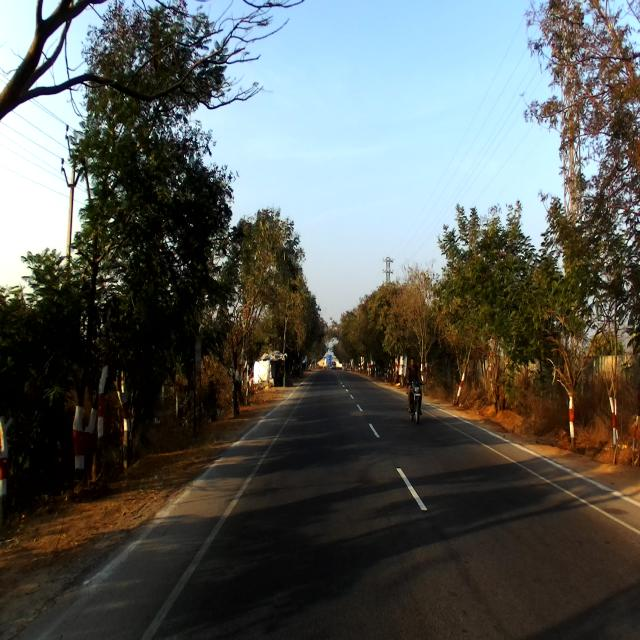tree ahead at: (72, 327, 95, 507)
